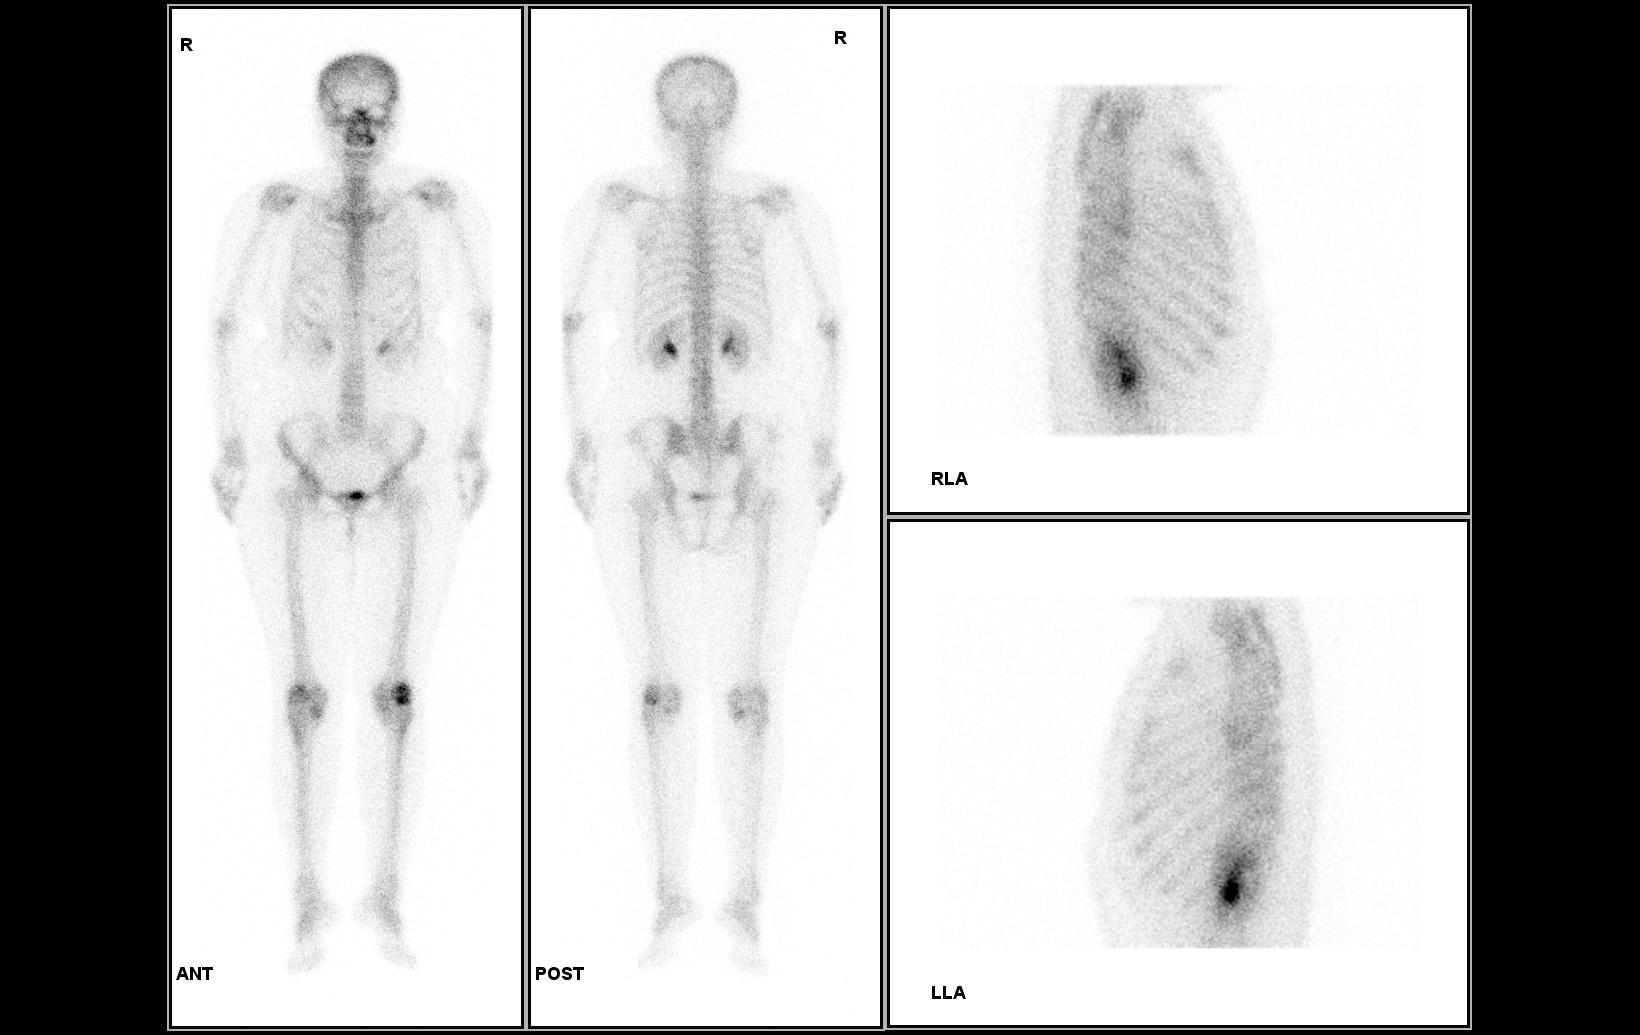person: (169, 8, 885, 1027)
